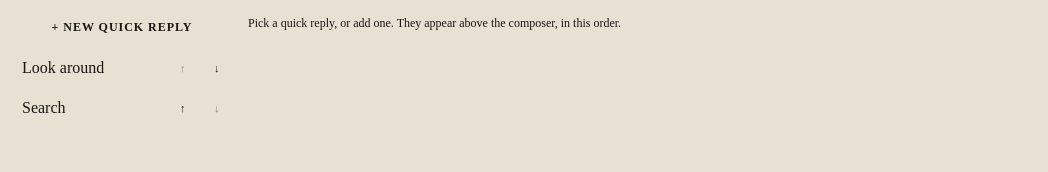
Test: clicking a row shows the read-only view with its sidebar
The width and height of the screenshot is (1048, 172).
Click the button "Look around" at (88, 68), box [12,51,164,85]
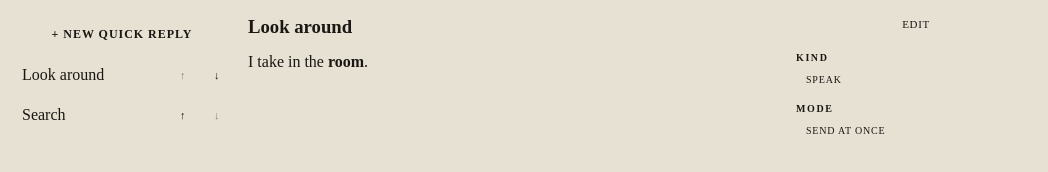
Expected: the heading "Look around" is shown, [248,16,352,37]
Expected: the button "Edit" is shown, [796,12,1036,36]
